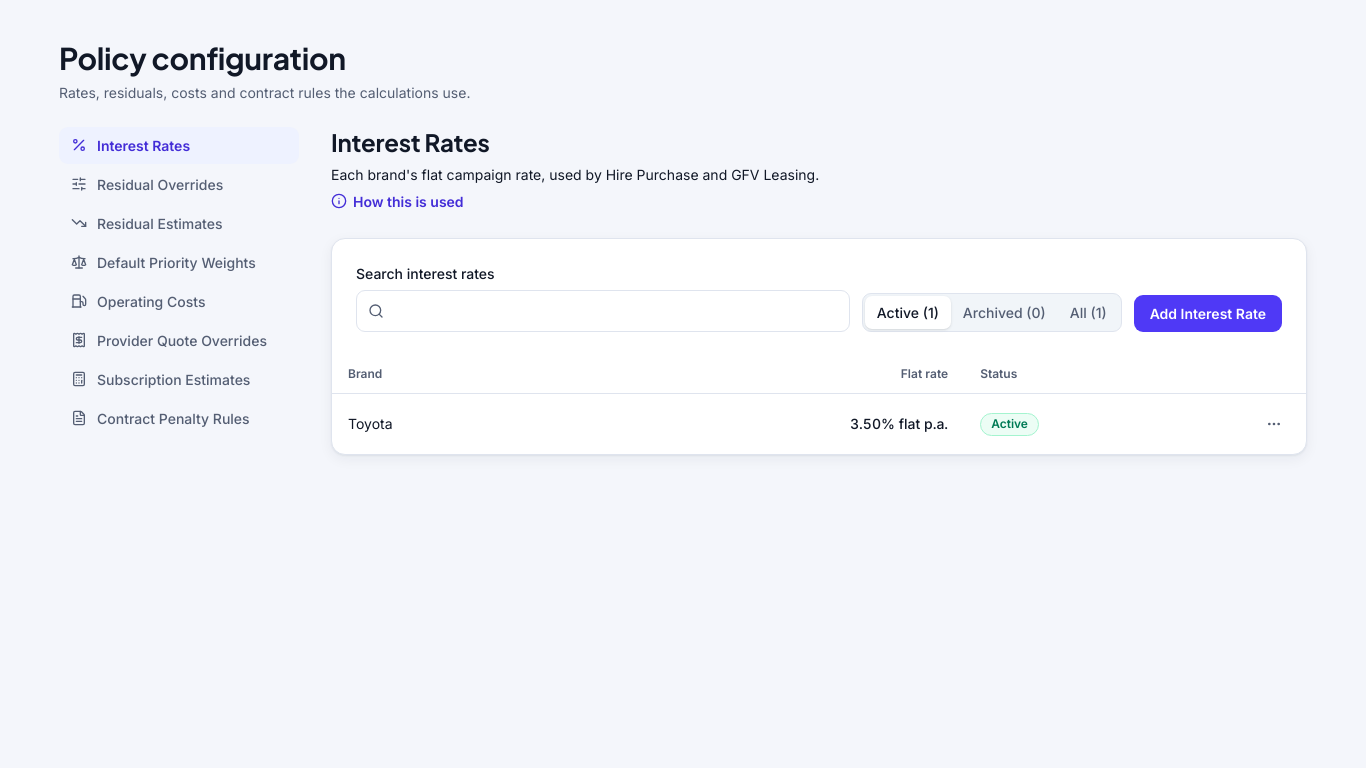
Test: AdminPolicyPage › still offers an edited Contract Penalty Rule's own brand after it was archived
The width and height of the screenshot is (1366, 768).
Expected: the text "3.50% flat p.a." is shown, x1=566 y1=394 x2=964 y2=454
Click the tab "Contract Penalty Rules". click: (179, 418)
box: x1=59 y1=400 x2=299 y2=436
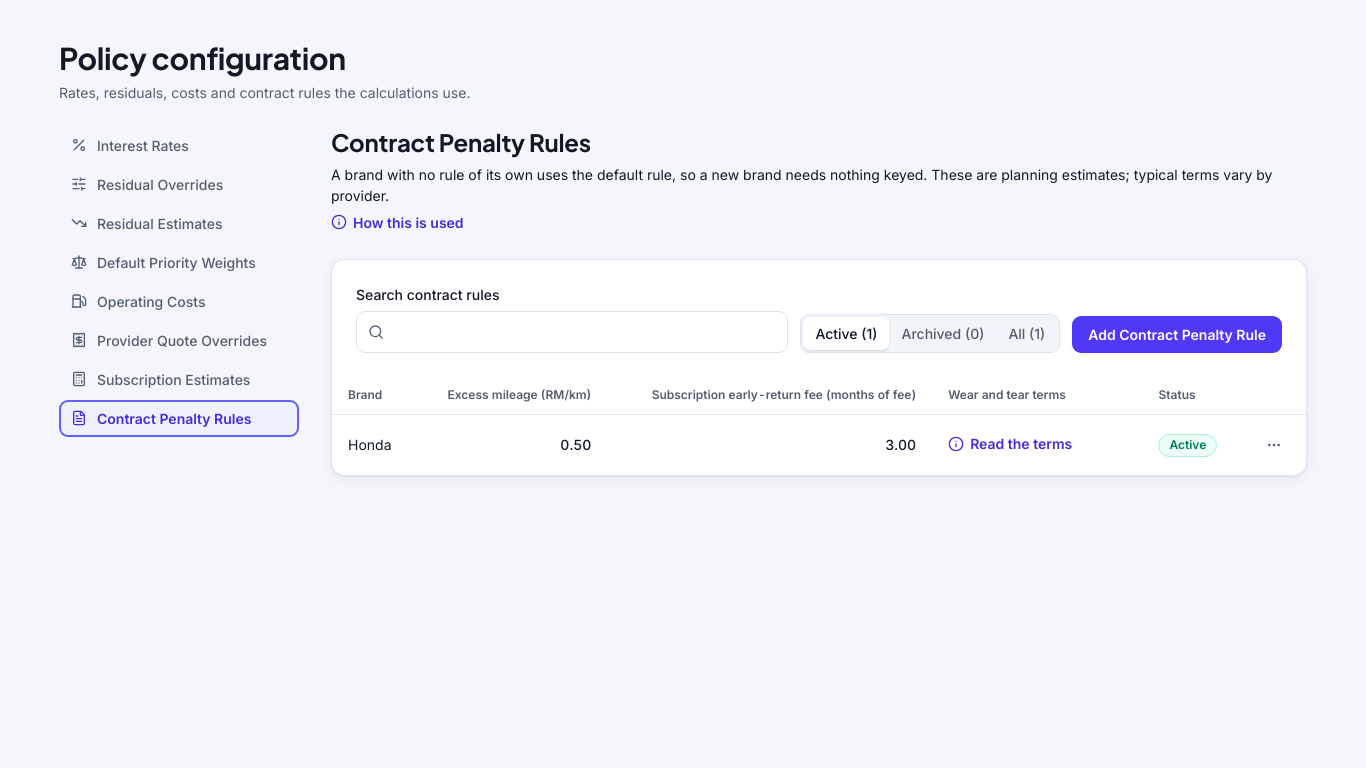
Click the button named "Actions for Honda". click: (1274, 445)
box: x1=1258 y1=429 x2=1290 y2=461
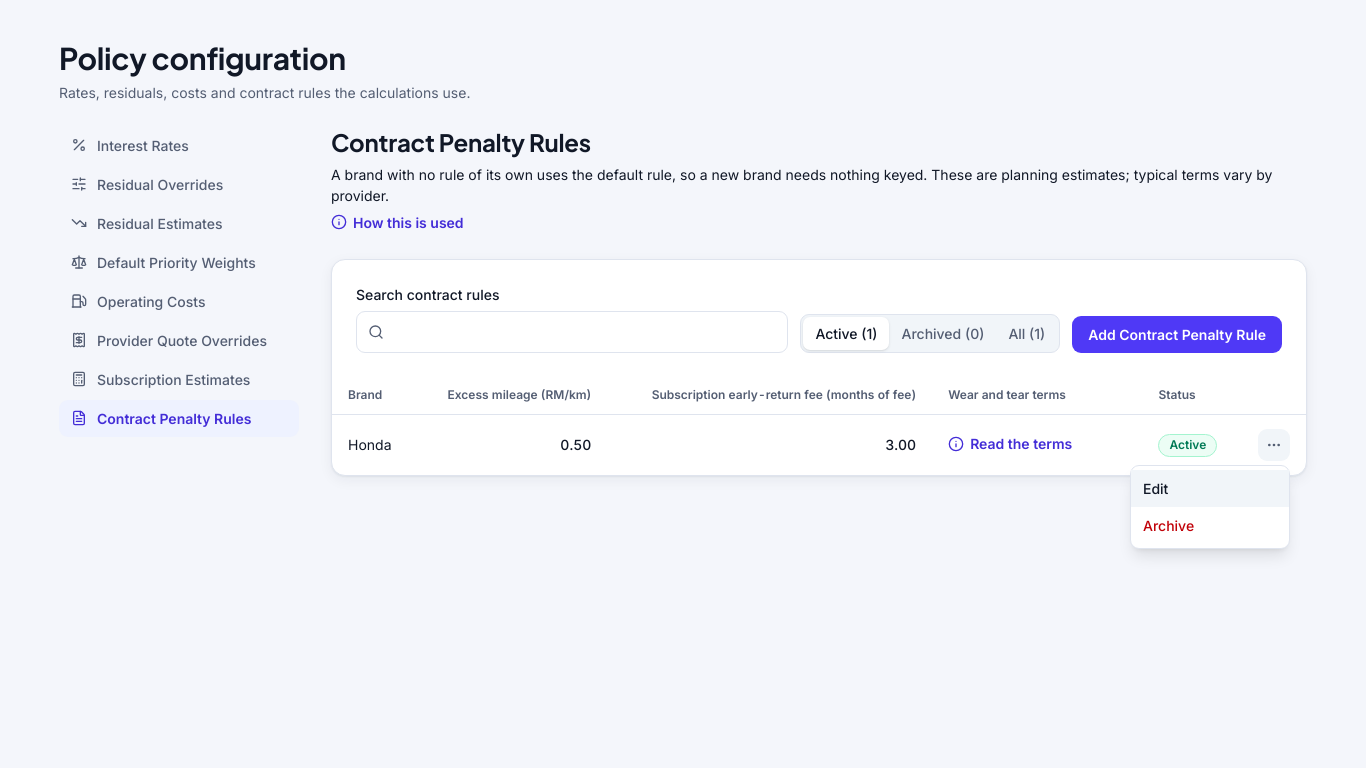
Click the menu item "Edit". click: (1210, 488)
box: x1=1131 y1=470 x2=1289 y2=507
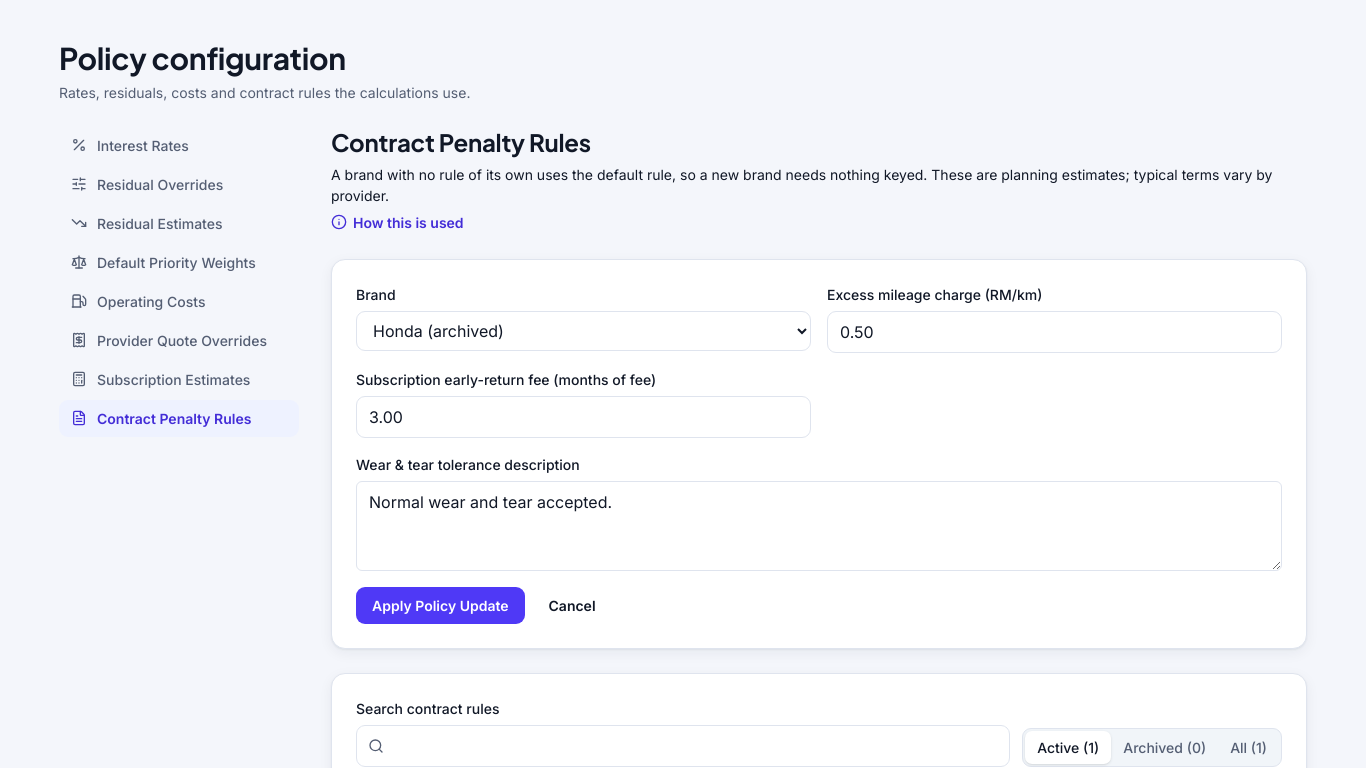
Expected: the dropdown labelled "Brand" shows "Honda (archived)", x1=356 y1=311 x2=811 y2=351
